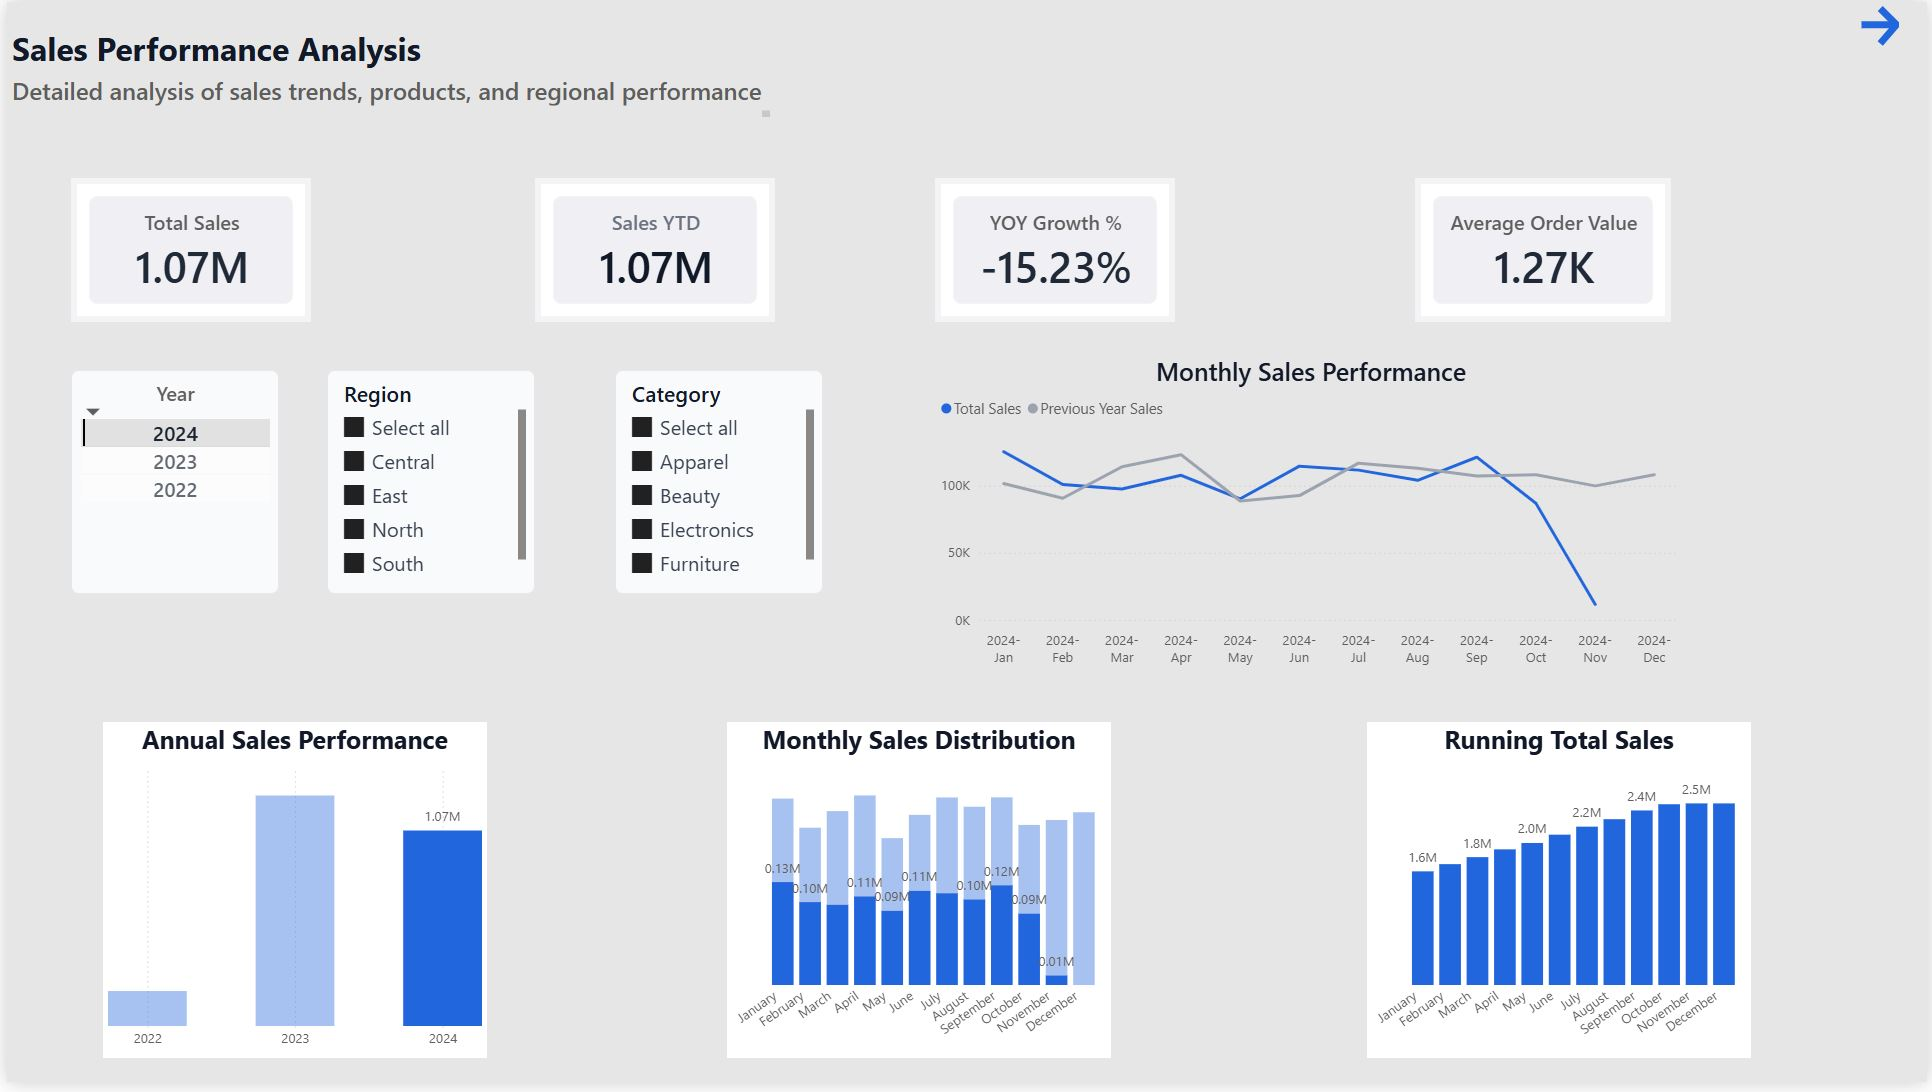

The dashboard page shown, as its layout file describes it:
{"tool":"powerbi","page":{"name":"Sales Analysis","canvas":[1920,1080],"ordinal":1},"visuals":[{"type":"textbox","title":"Sales Performance Analysis","box":[0,24,768,96],"z":0},{"type":"lineChart","title":"Monthly Sales Performance","fields":{"Category":["Date.Year-Month"],"Y":["Measures (2).Total Sales","Measures (2).Previous Year Sales"]},"box":[928,352,752,320],"z":1000},{"type":"tableEx","fields":{"Values":["Date.Year"]},"box":[64,368,208,224],"z":2000},{"type":"clusteredColumnChart","title":"Annual Sales Performance","fields":{"Category":["Date.Year"],"Y":["Measures (2).Total Sales"]},"box":[96,720,384,336],"z":3000},{"type":"slicer","fields":{"Values":["Customers.Region"]},"box":[320,368,208,224],"z":4000},{"type":"slicer","fields":{"Values":["Products.Category"]},"box":[608,368,208,224],"z":5000},{"type":"clusteredColumnChart","title":"Monthly Sales Distribution","fields":{"Category":["Date.Month Name"],"Y":["Measures (2).Total Sales"]},"box":[720,720,384,336],"z":6000},{"type":"clusteredColumnChart","title":"Running Total Sales","fields":{"Category":["Date.Month Name"],"Y":["Measures (2).Running Total Sales"]},"box":[1360,720,384,336],"z":7000},{"type":"cardVisual","fields":{"Data":["Measures (2).Total Sales"]},"box":[64,176,240,144],"z":8000},{"type":"cardVisual","fields":{"Data":["Measures (2).Sales YTD"]},"box":[528,176,240,144],"z":9000},{"type":"cardVisual","fields":{"Data":["Measures (2).YOY Growth %"]},"box":[928,176,240,144],"z":10000},{"type":"cardVisual","fields":{"Data":["Measures (2).Average Order Value"]},"box":[1408,176,256,144],"z":11000},{"type":"actionButton","box":[1824,0,96,48],"z":11001}]}

Visuals, with their boxes in screenshot pixels (x1, y1, x2, y2), scaled from the page's 1920x1080 canvas onto the 1932x1092 screenshot:
"Sales Performance Analysis" textbox: region(0, 24, 773, 121)
"Monthly Sales Performance" lineChart: region(934, 356, 1691, 679)
tableEx - Date.Year: region(64, 372, 274, 599)
"Annual Sales Performance" clusteredColumnChart: region(97, 728, 483, 1068)
slicer - Customers.Region: region(322, 372, 531, 599)
slicer - Products.Category: region(612, 372, 821, 599)
"Monthly Sales Distribution" clusteredColumnChart: region(725, 728, 1111, 1068)
"Running Total Sales" clusteredColumnChart: region(1369, 728, 1755, 1068)
cardVisual - Measures (2).Total Sales: region(64, 178, 306, 324)
cardVisual - Measures (2).Sales YTD: region(531, 178, 773, 324)
cardVisual - Measures (2).YOY Growth %: region(934, 178, 1175, 324)
cardVisual - Measures (2).Average Order Value: region(1417, 178, 1674, 324)
actionButton: region(1835, 0, 1931, 49)
